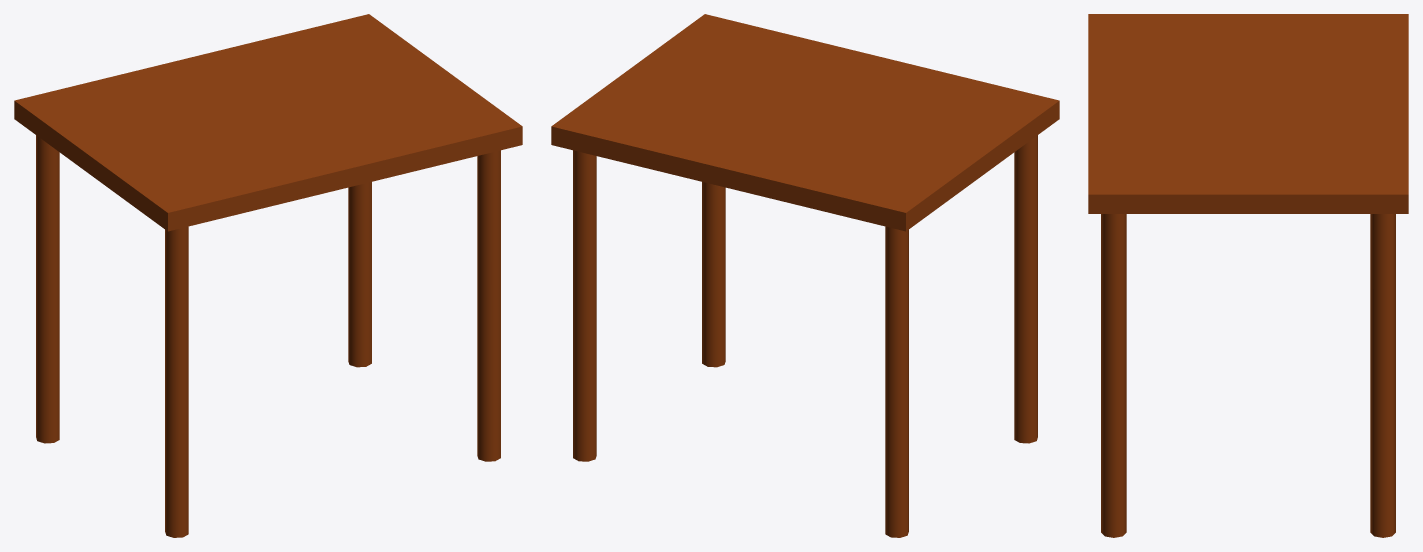
The model's file is desk.glb.
3 views of the same model, side by side, from view 1: azimuth 30°, elevation 25°; view 2: azimuth 150°, elevation 25°; view 3: azimuth 270°, elevation 25° (orthographic). The views are drawn at different scales.
Size of the model in its own units: 1 by 0.9 by 0.75.
